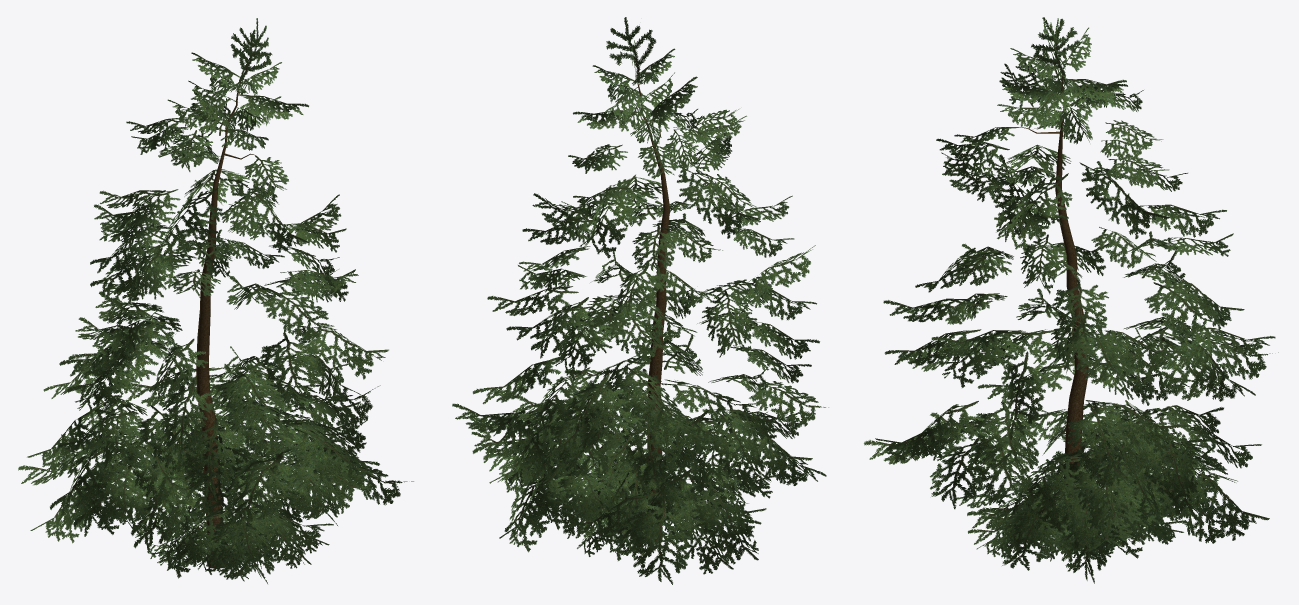
The model's file is fir4_l2.glb.
3 views of the same model, side by side, from view 1: azimuth 30°, elevation 25°; view 2: azimuth 150°, elevation 25°; view 3: azimuth 270°, elevation 25° (orthographic). The views are drawn at different scales.
Visible parts, largest first — view 1: Christmas tree_4_LOD2_Brunches_Mat_0, Christmas tree_4_LOD2_Bark_Mat_0; view 2: Christmas tree_4_LOD2_Brunches_Mat_0, Christmas tree_4_LOD2_Bark_Mat_0; view 3: Christmas tree_4_LOD2_Brunches_Mat_0, Christmas tree_4_LOD2_Bark_Mat_0.
Boxes of the visible parts, x1=… form: Christmas tree_4_LOD2_Brunches_Mat_0: x1=18, y1=18, x2=413, y2=583; Christmas tree_4_LOD2_Bark_Mat_0: x1=196, y1=81, x2=254, y2=568; Christmas tree_4_LOD2_Brunches_Mat_0: x1=452, y1=17, x2=828, y2=584; Christmas tree_4_LOD2_Bark_Mat_0: x1=636, y1=76, x2=670, y2=543; Christmas tree_4_LOD2_Brunches_Mat_0: x1=864, y1=17, x2=1278, y2=583; Christmas tree_4_LOD2_Bark_Mat_0: x1=1020, y1=73, x2=1088, y2=544.
Size of the model in its own units: 6.42 by 9.06 by 6.3.
2 materials, 2 textured.
